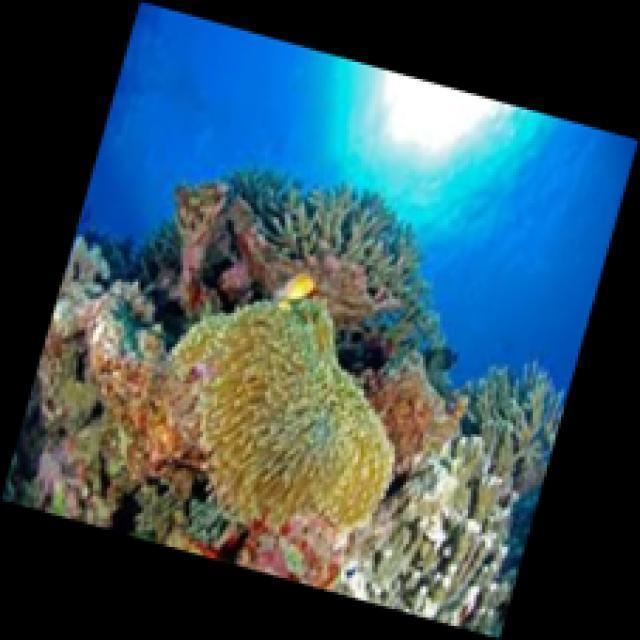Healthy Coral: (146, 284, 409, 542), (171, 127, 450, 324)
